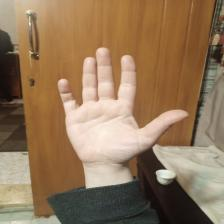five: (56, 46, 190, 165)
